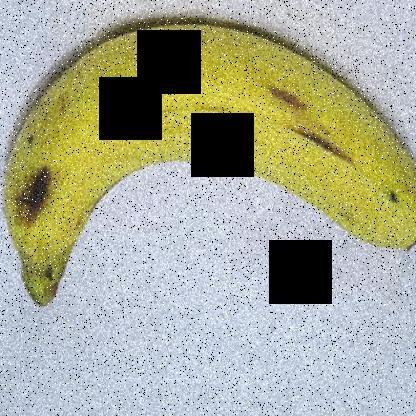freshripe: (1, 10, 415, 323)
